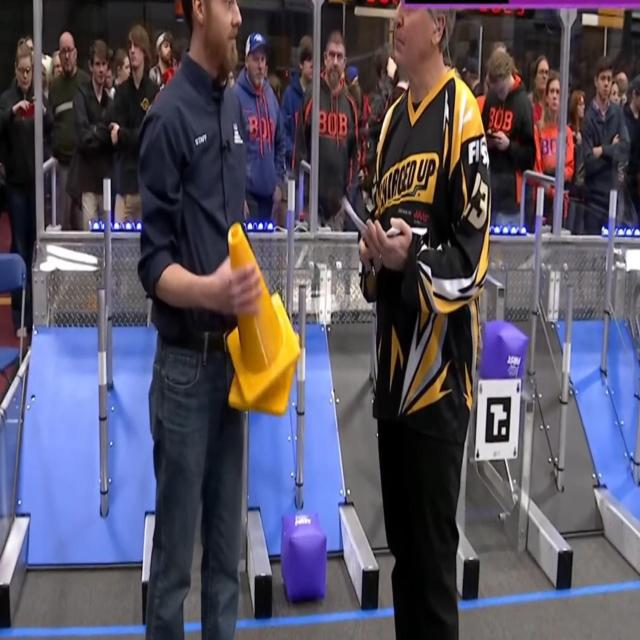frc_cone: (226, 220, 300, 415)
frc_cube: (280, 513, 327, 602), (480, 319, 526, 386)
